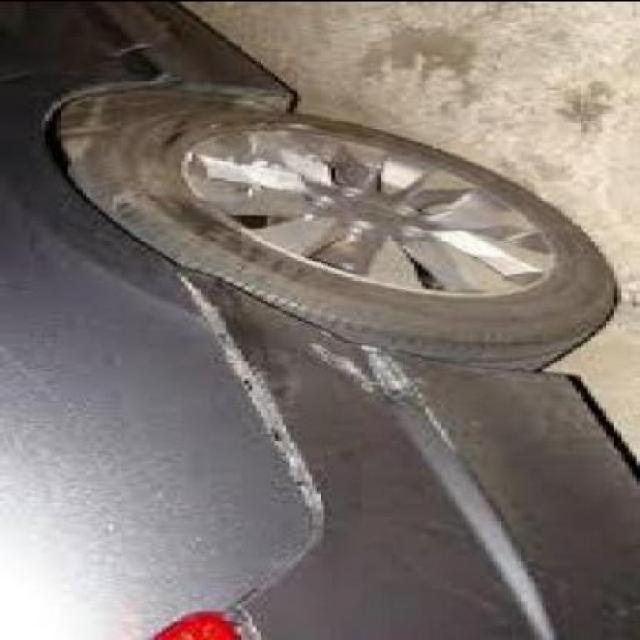damage: (161, 275, 328, 517), (294, 336, 462, 455)
